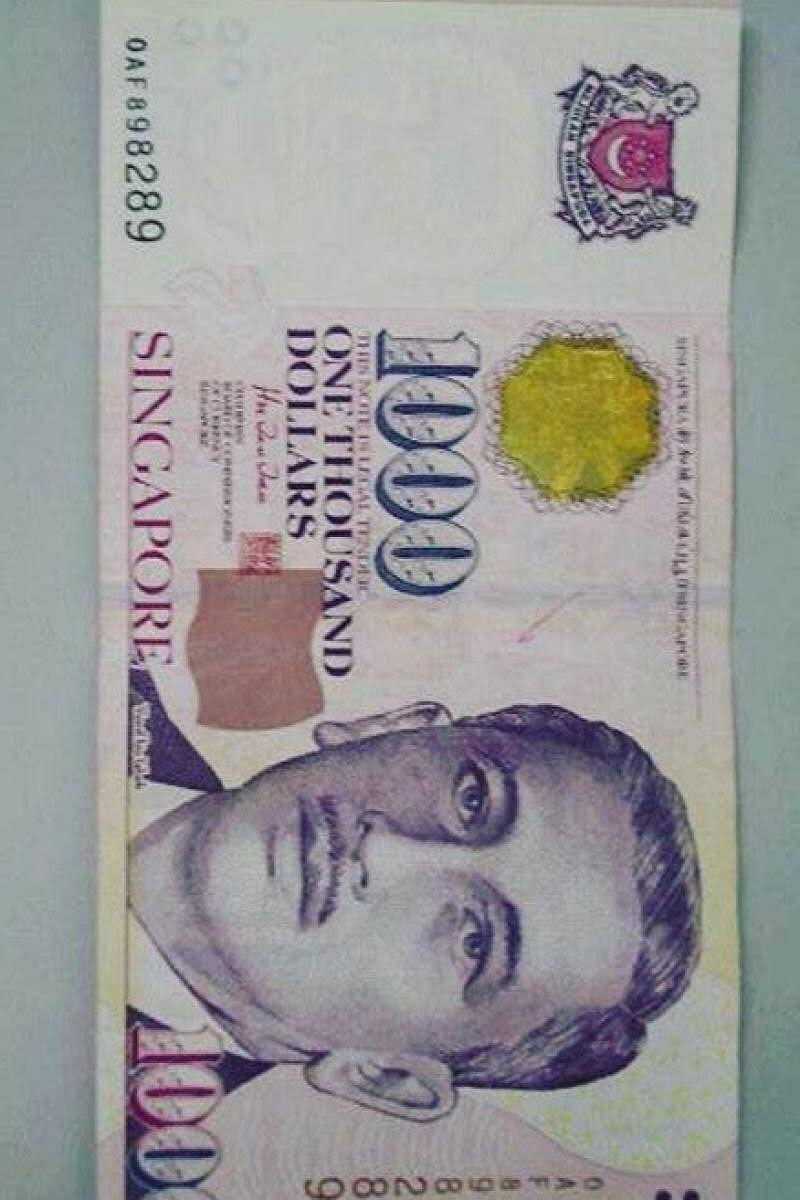1000SingaporeDollar: (99, 0, 730, 1200)
